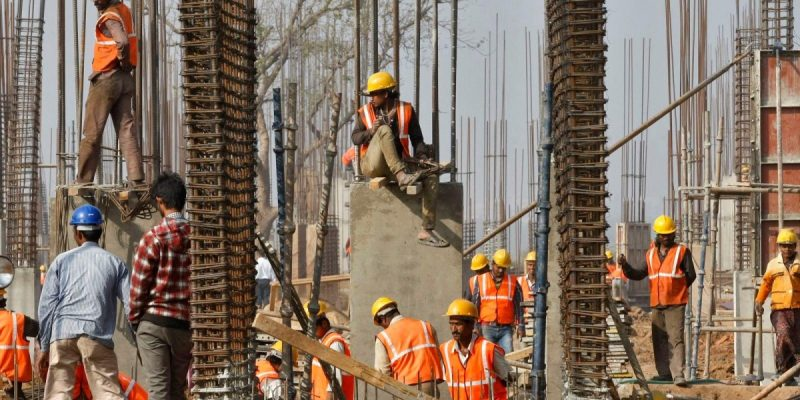cap: (60, 202, 116, 230), (438, 298, 489, 322), (364, 295, 401, 325), (644, 214, 684, 237), (362, 70, 401, 92), (491, 248, 517, 268), (770, 229, 800, 246), (466, 251, 491, 271), (526, 246, 539, 264), (604, 247, 621, 258)
jacket: (366, 319, 444, 384), (437, 337, 515, 400), (296, 330, 361, 398), (86, 8, 154, 71), (348, 102, 413, 167), (638, 242, 697, 310), (749, 253, 800, 316), (474, 274, 524, 330), (1, 309, 35, 385)
